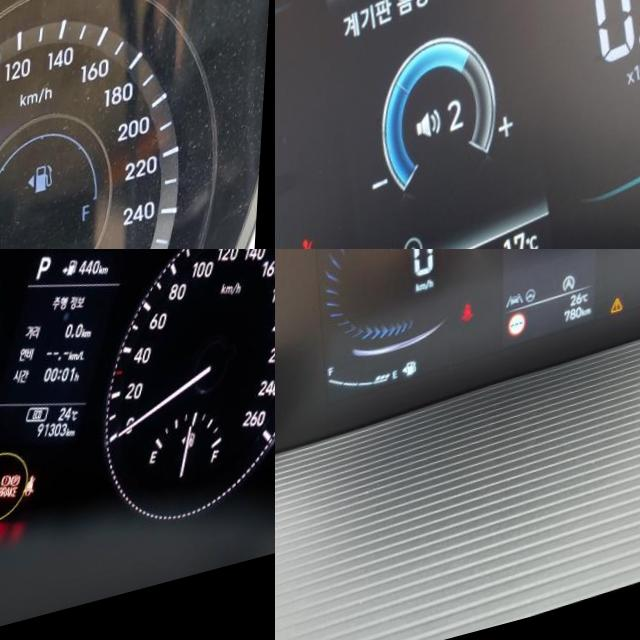Central Warning lamp: (614, 316, 628, 335)
LaneCenteringOff: (509, 307, 527, 325)
